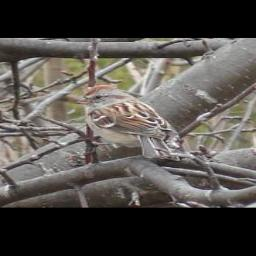Sparrow: (74, 84, 180, 162)
